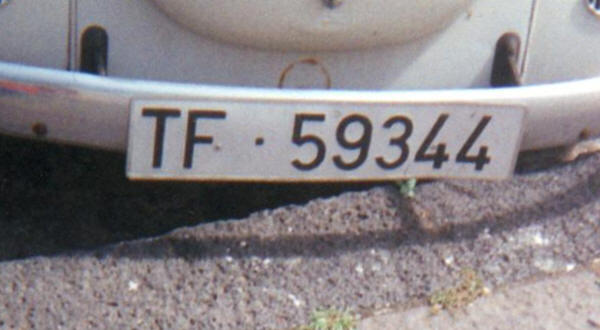license_plate: (124, 100, 526, 182)
